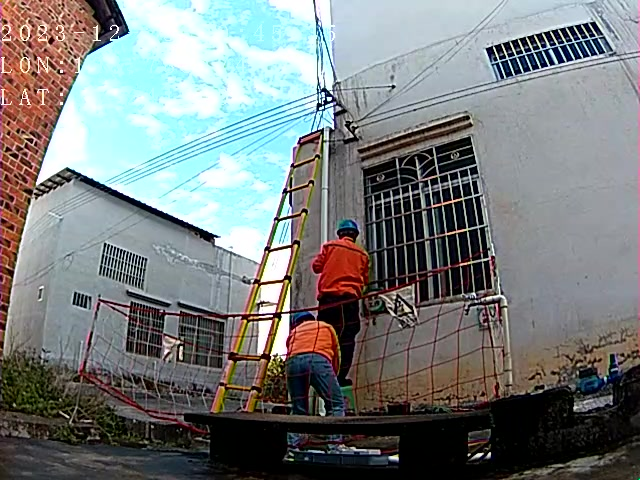halt: (338, 222, 363, 244), (295, 313, 319, 328)
